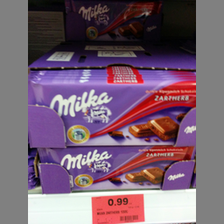chocolate: (28, 79, 196, 145), (37, 147, 195, 191)
